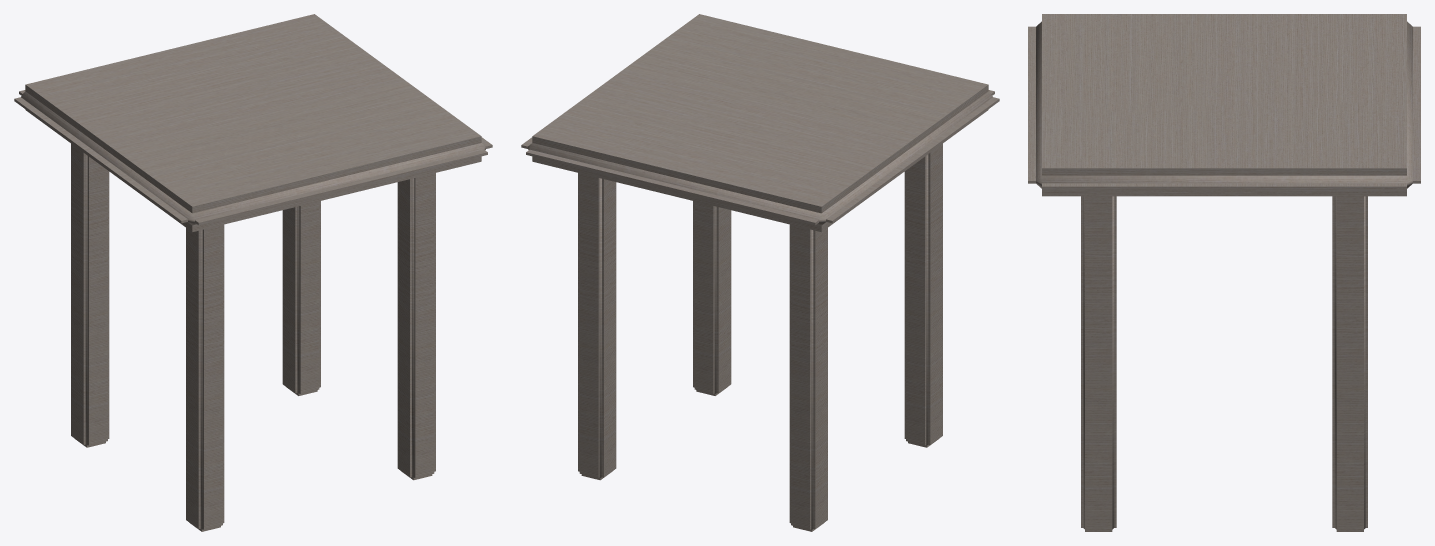
File: modern.side_table.gltf
The picture shows the model from 3 angles, left to right: view 1: azimuth 30°, elevation 25°; view 2: azimuth 150°, elevation 25°; view 3: azimuth 270°, elevation 25°; orthographic projection. The views are drawn at different scales.
Parts seen in each view (by area): view 1: modern.side_table.rounded-top; view 2: modern.side_table.rounded-top; view 3: modern.side_table.rounded-top.
Part boxes in pixels (<box>): modern.side_table.rounded-top: <box>14,14,492,531</box>; modern.side_table.rounded-top: <box>521,14,999,531</box>; modern.side_table.rounded-top: <box>1028,14,1420,531</box>.
Size of the model in its own units: 0.46 by 0.49 by 0.46.
1 material, 1 textured.
